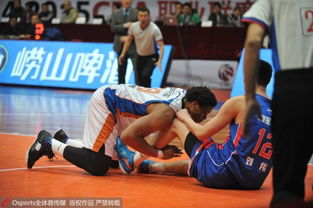10+: (1, 1, 311, 205)
down: (111, 54, 280, 191), (21, 78, 216, 179)
